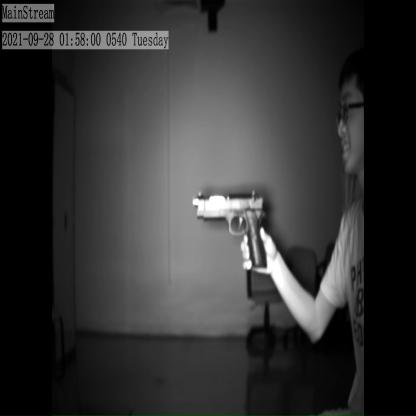weapon: (194, 186, 270, 271)
